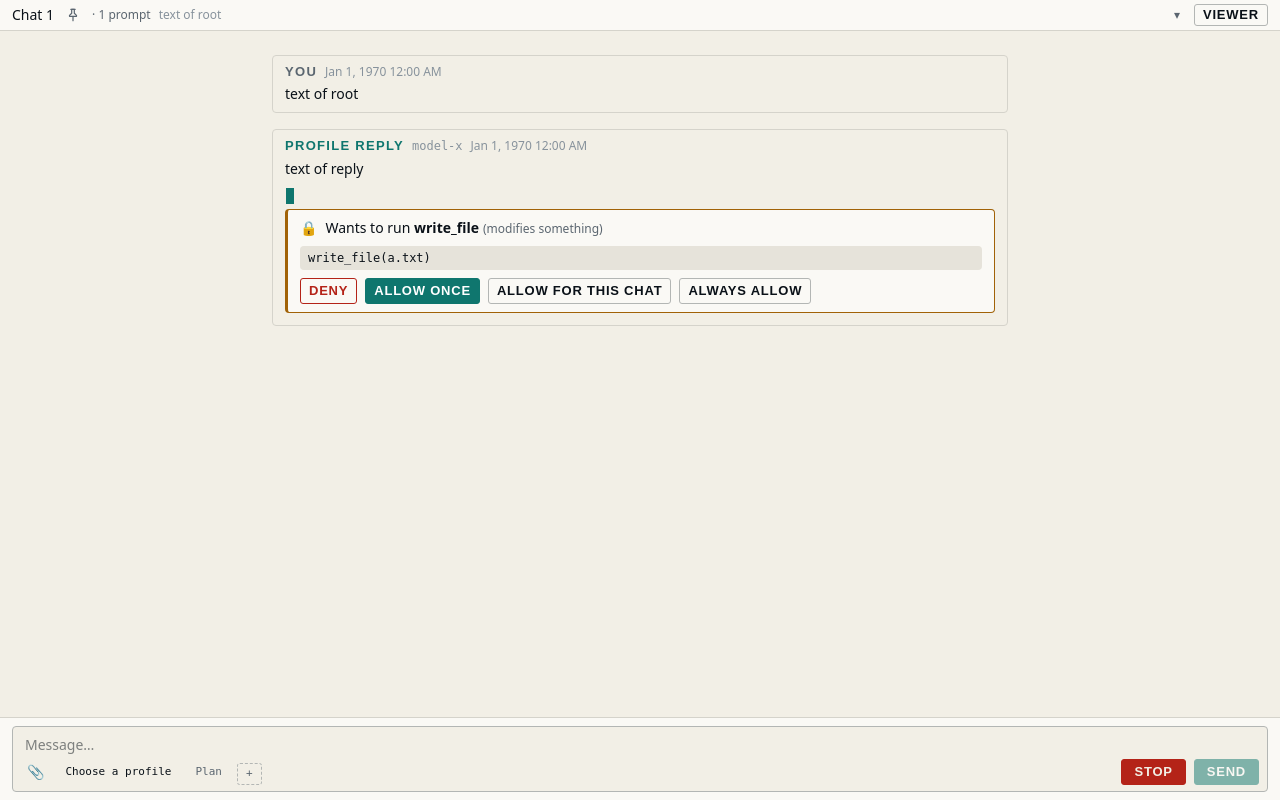
Test case: Thread approval prompts that were discarded server-side › drops the prompt when the server says the request is gone (404), instead of leaving a dead card with a retry error
Expected: the message with test id "approval-prompt-req-1" is shown, left=285, top=209, right=995, bottom=313
Click the button with test id "approval-deny". click: [329, 291]
box: left=300, top=278, right=357, bottom=304
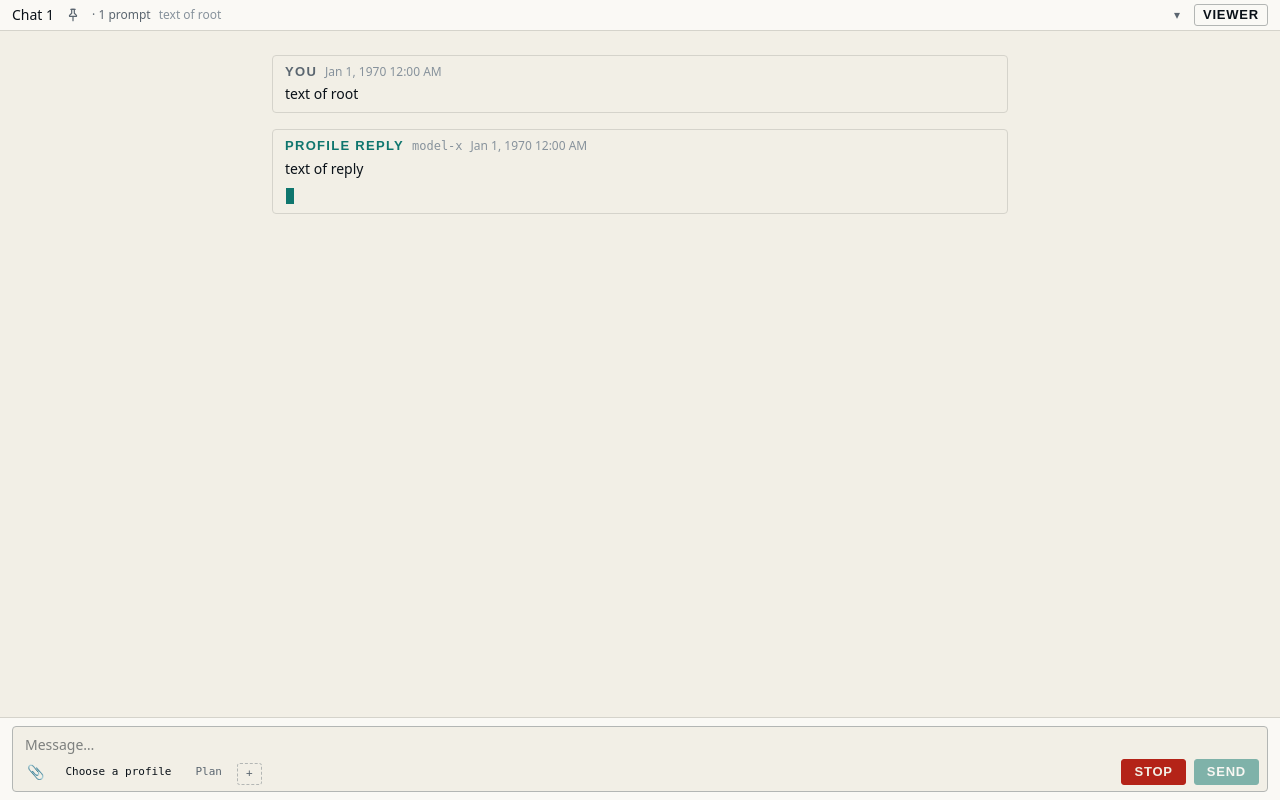
Result: the message with test id "approval-prompt-req-1" is gone
